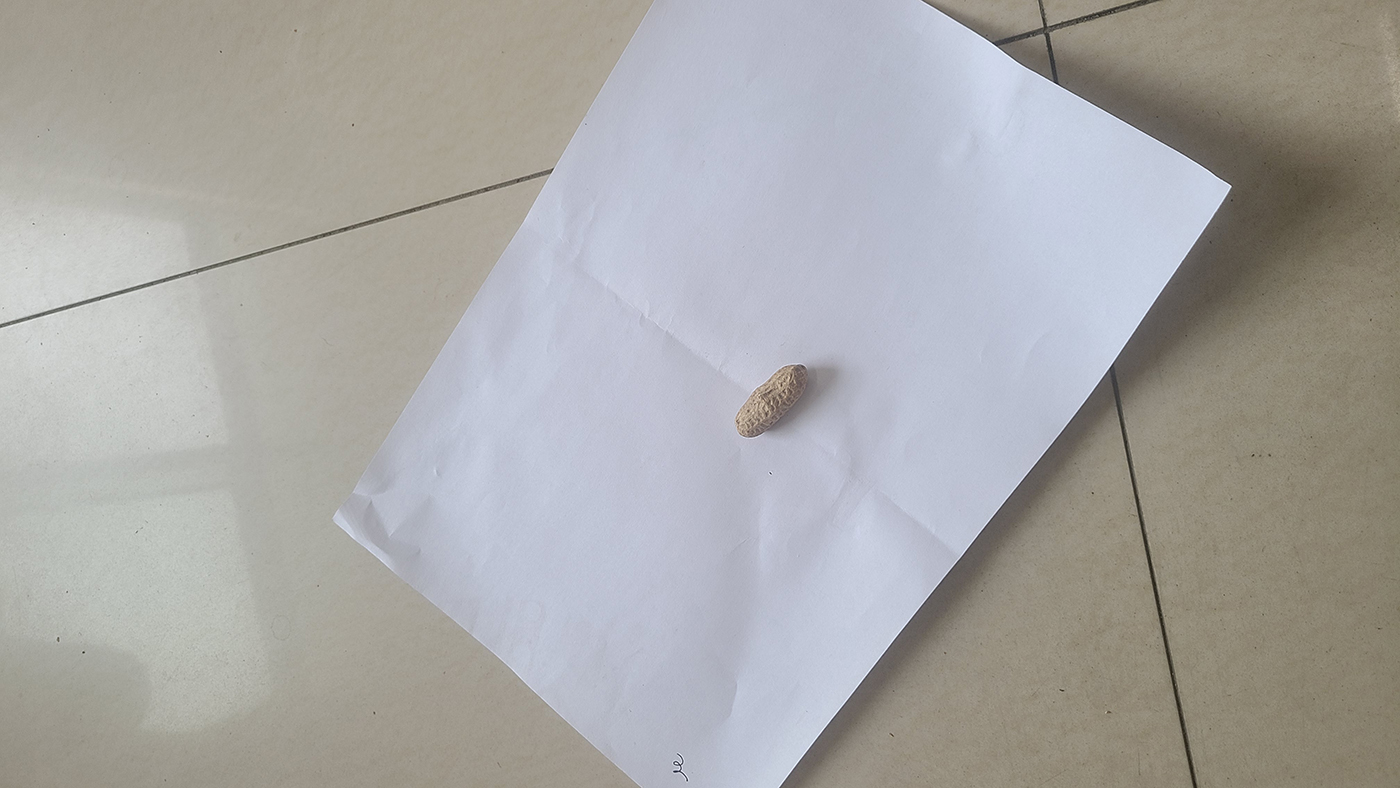h: (734, 361, 811, 438)
